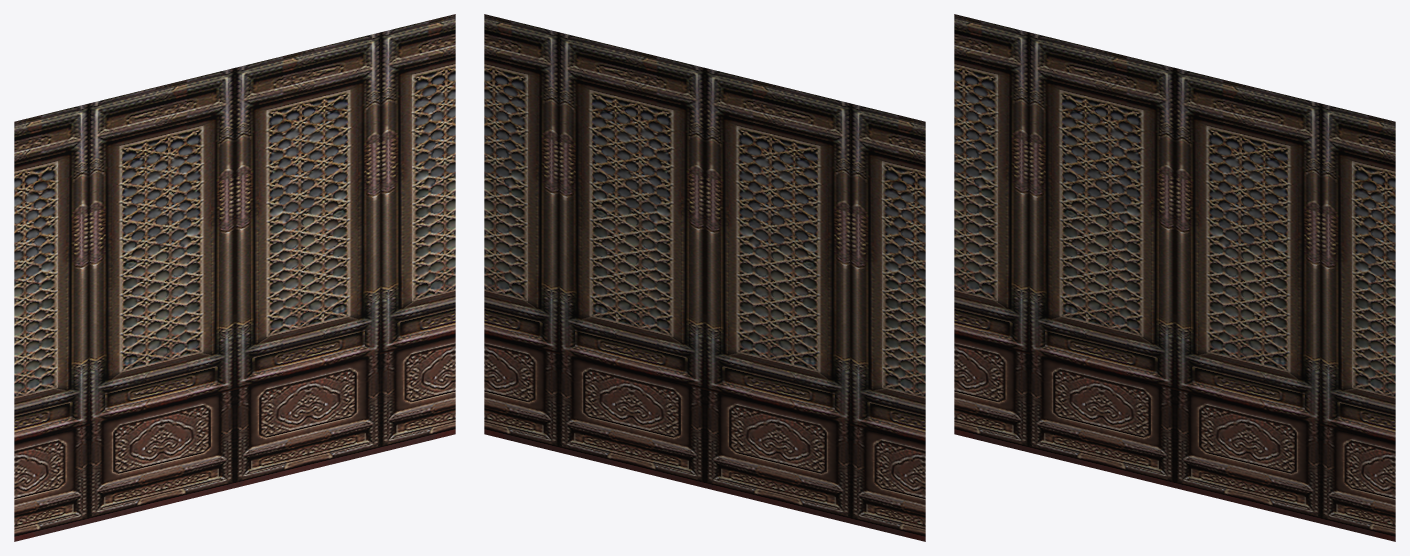
Rendered from SwordRoom_1_newwall05.FBX.
3 views of the same model, side by side, from view 1: azimuth 30°, elevation 25°; view 2: azimuth 150°, elevation 25°; view 3: azimuth 330°, elevation 25° (orthographic).
Visible parts, largest first — view 1: SwordRoom_1_newwall05; view 2: SwordRoom_1_newwall05; view 3: SwordRoom_1_newwall05.
Boxes of the visible parts, x1=… form: SwordRoom_1_newwall05: x1=14, y1=14, x2=455, y2=541; SwordRoom_1_newwall05: x1=484, y1=14, x2=925, y2=541; SwordRoom_1_newwall05: x1=954, y1=14, x2=1395, y2=541.
Bounding box in the file's own units: 668 × 607 × 0.000183.
1 material, 1 textured.
